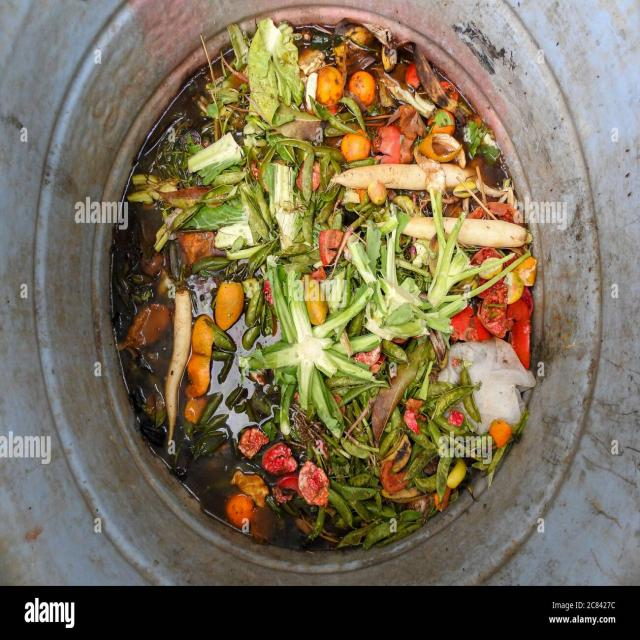Food -Biodegradable-: (112, 22, 548, 555)
